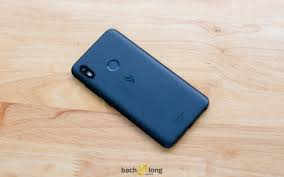vsmart: (67, 26, 215, 153)
